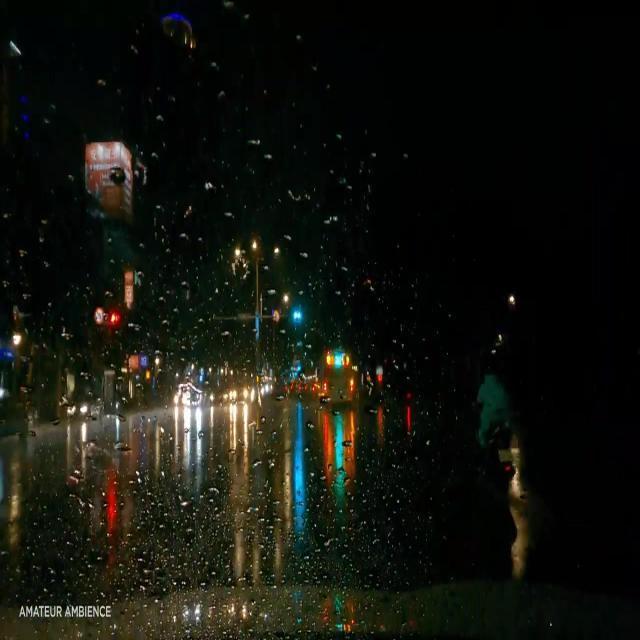Car: (68, 389, 101, 418)
